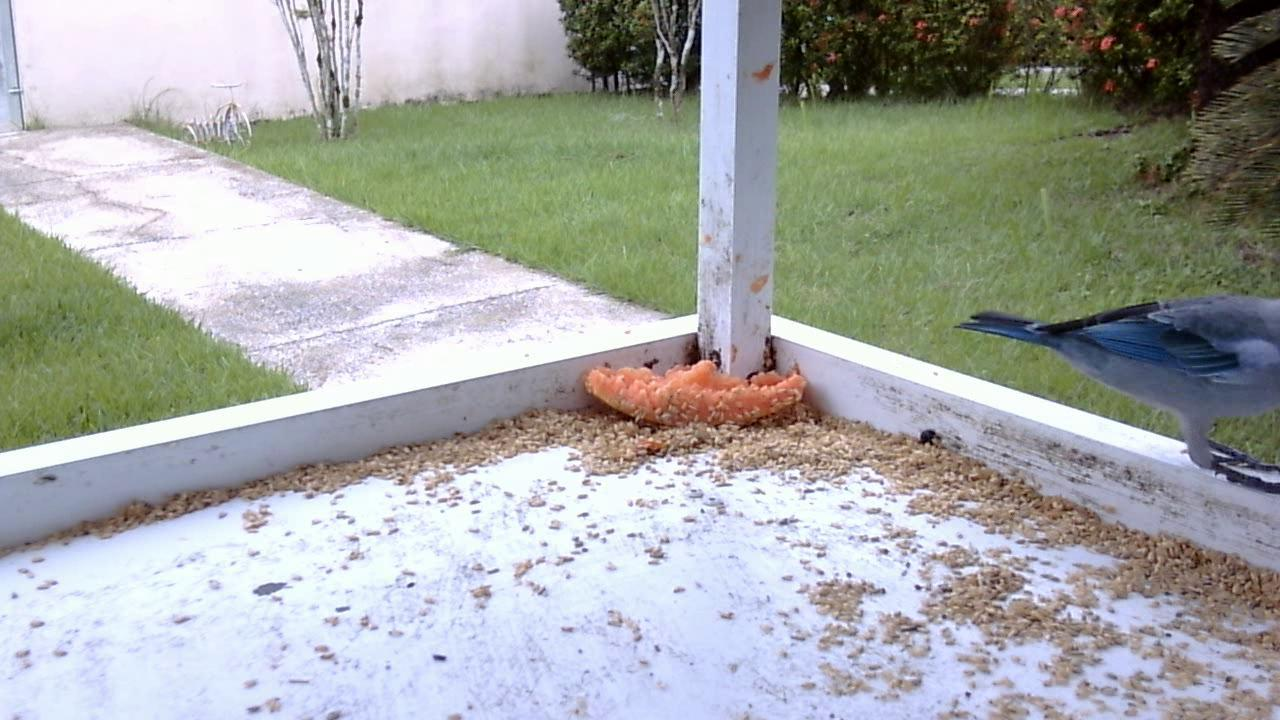sanhaco_da_amazonia: (952, 289, 1275, 485)
